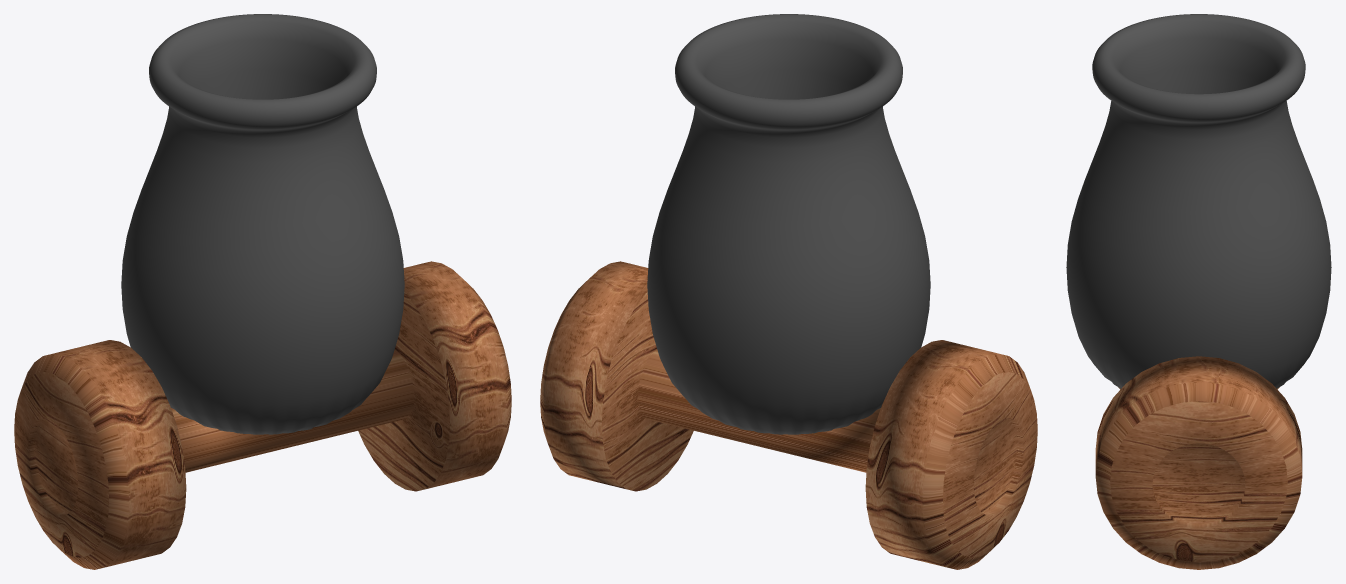
File: Cannon2.fbx
3 renders of one model, left to right at view 1: azimuth 30°, elevation 25°; view 2: azimuth 150°, elevation 25°; view 3: azimuth 270°, elevation 25°, orthographic. The views are drawn at different scales.
Visible parts, largest first — view 1: Cylinder, Cylinder.001; view 2: Cylinder, Cylinder.001; view 3: Cylinder, Cylinder.001.
Part boxes in pixels (x1,y1,x2,y2): Cylinder: (121, 14, 404, 434); Cylinder.001: (14, 261, 511, 569); Cylinder: (647, 14, 930, 434); Cylinder.001: (540, 261, 1037, 569); Cylinder: (1066, 14, 1331, 388); Cylinder.001: (1095, 356, 1302, 569).
Bounding box in the file's own units: 336 × 351 × 196.
Materials: 2 (1 with a texture image).
